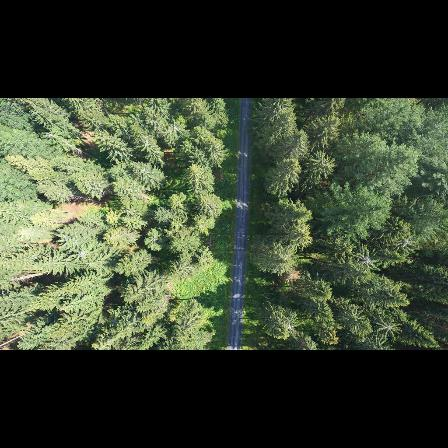Sick: (353, 246, 383, 275), (66, 240, 96, 267), (375, 314, 401, 339), (394, 231, 420, 255)
